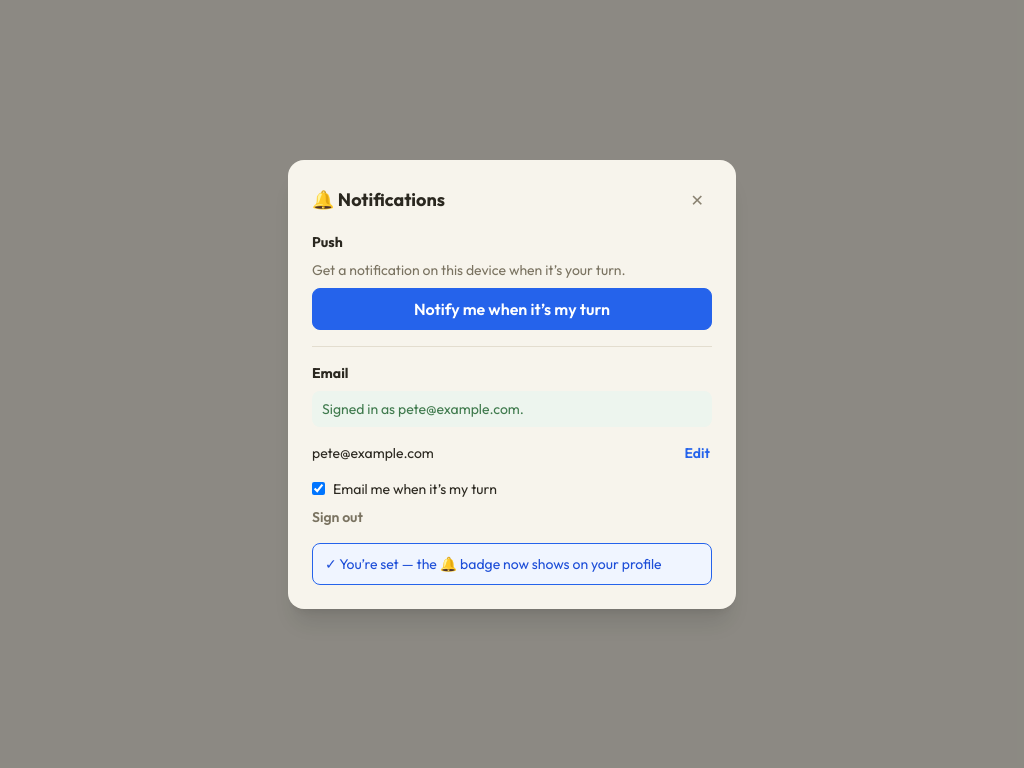
Test: NotificationSettings › shows a saved address read-only with an Edit affordance that seeds the input
expect the text "pete@example.com" is shown: met, box left=312, top=444, right=434, bottom=462
Step 1. Click the button "Edit" → (697, 452), box left=682, top=434, right=712, bottom=470
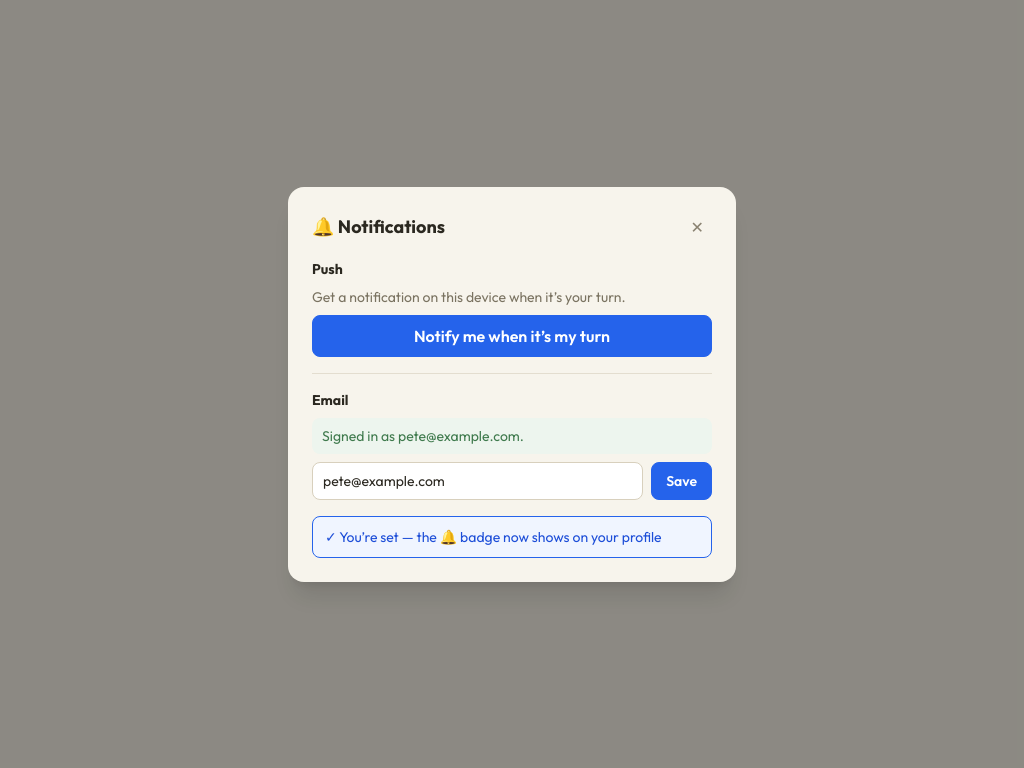
expect the field holds "pete@example.com": met, box left=312, top=462, right=643, bottom=500
